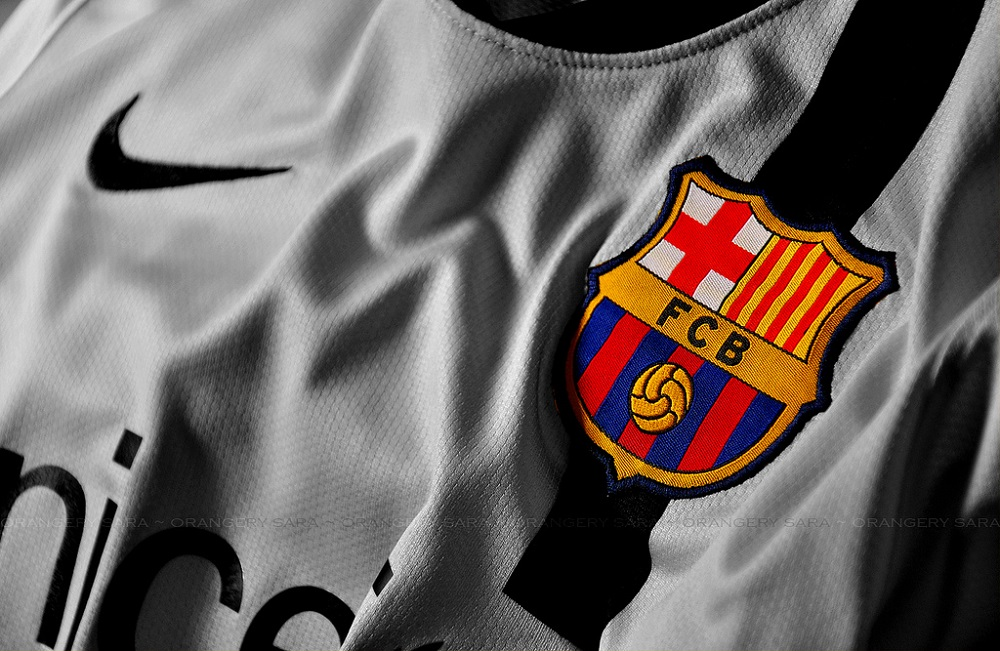BarcelonaFC: (569, 151, 900, 491)
